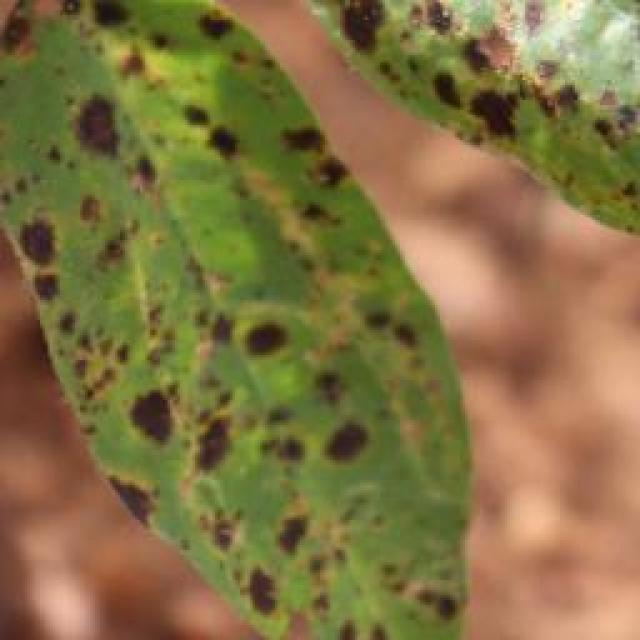Yellowish: (0, 0, 467, 637), (322, 0, 640, 234)
